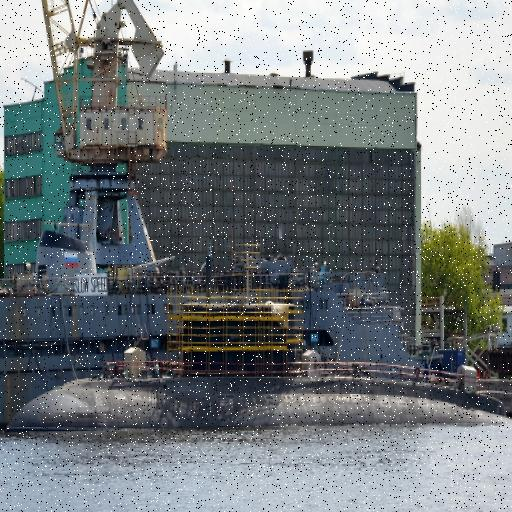submarine: (1, 369, 512, 426)
